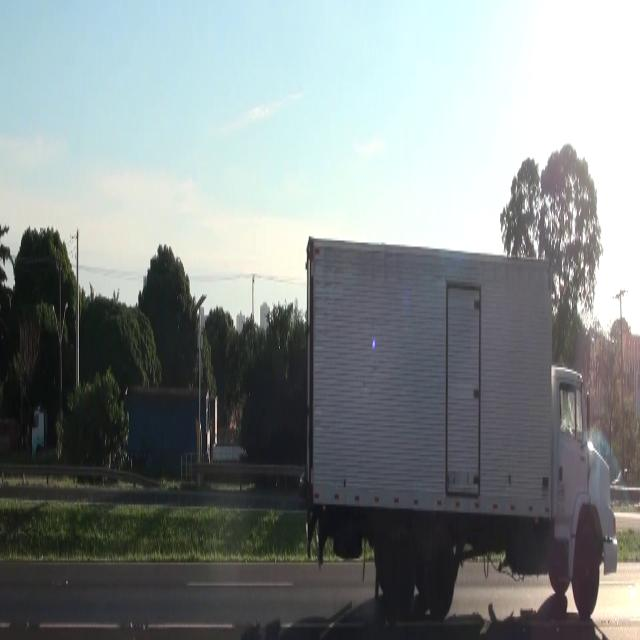-axle: (382, 518, 416, 614), (424, 520, 456, 618), (574, 524, 600, 614)
